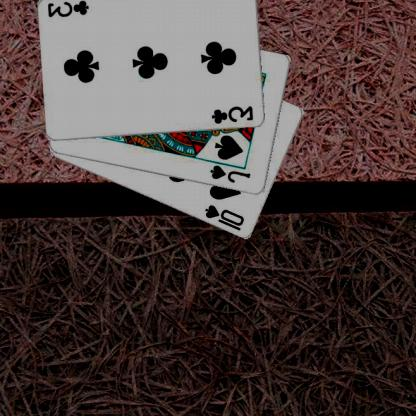10S: (204, 202, 248, 232)
3C: (211, 104, 257, 126), (48, 0, 92, 19)
JS: (209, 162, 254, 184)
